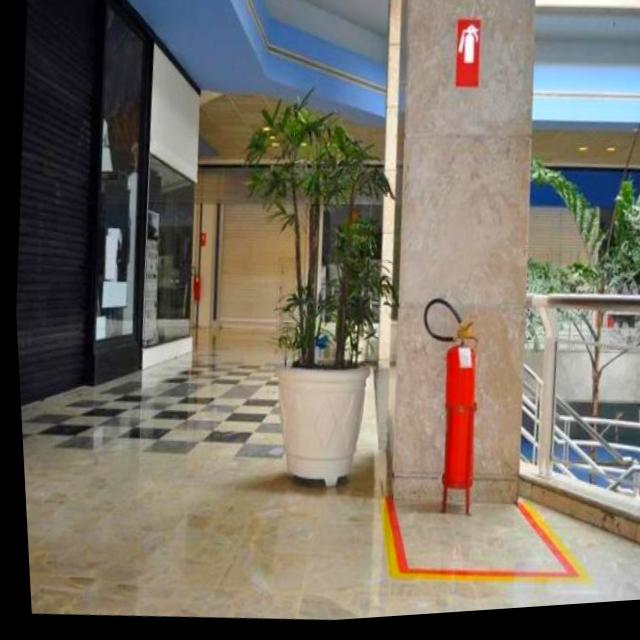FireExtinguisher: (397, 290, 488, 503), (178, 264, 200, 310)
